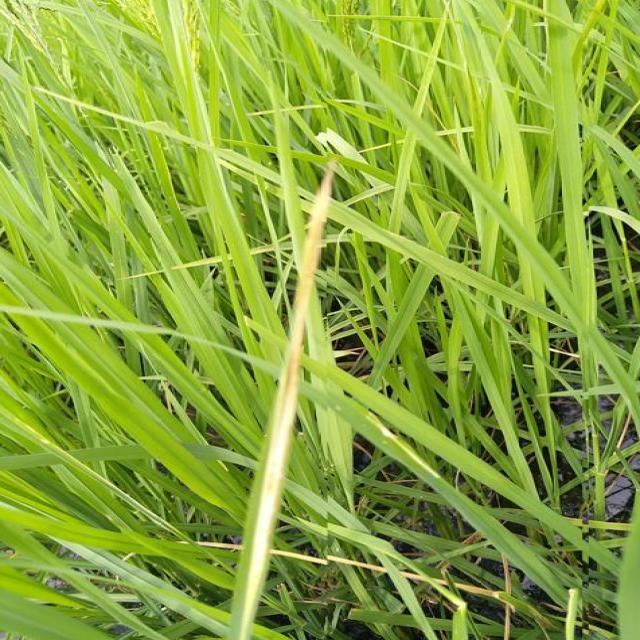Leaf Blight: (226, 172, 332, 640)
